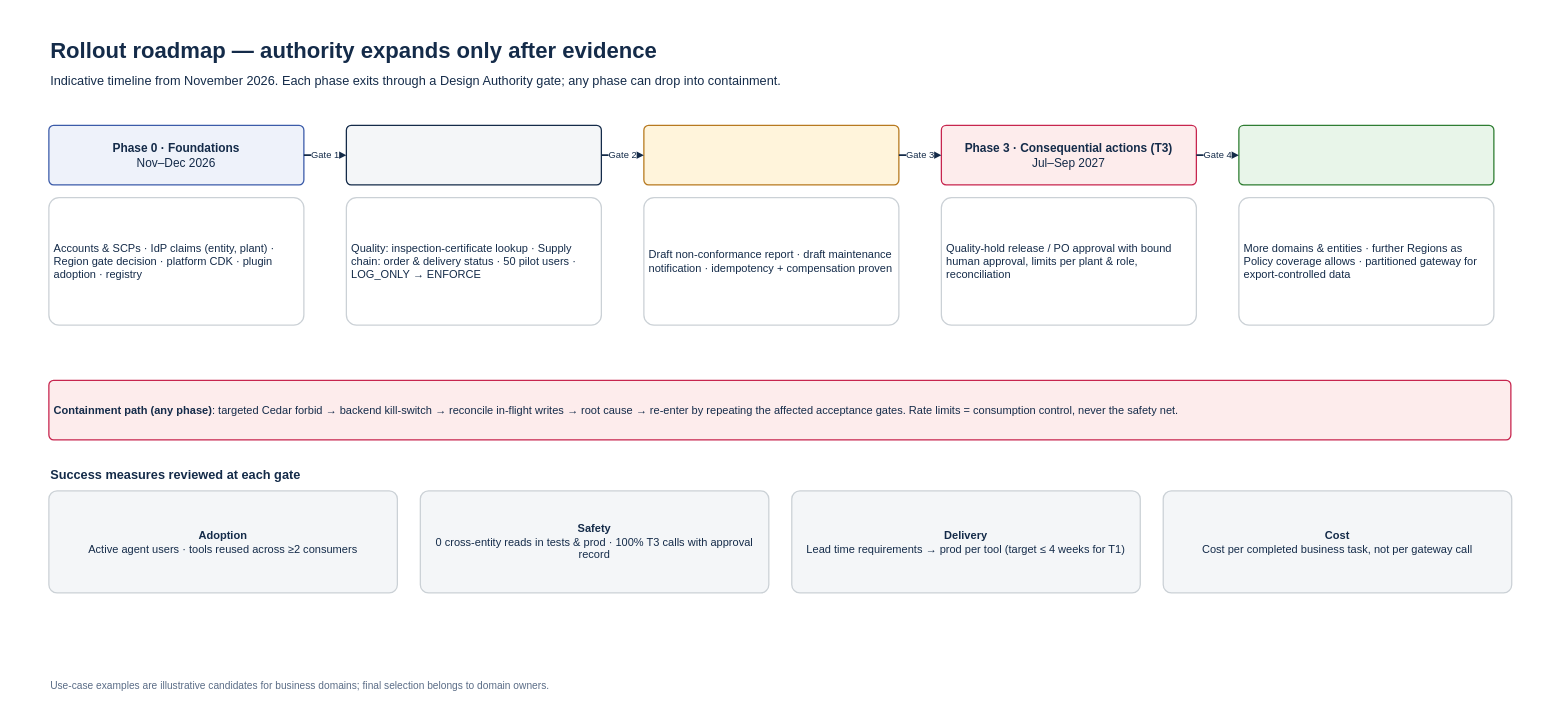
This 1559x726 diagram has some shape labels left out. The shapes that lost their labels are listed below. From the top down, each one's box as (x1, y1, x2, y2) in pixels, then its label:
(345, 124, 602, 185): Phase 1 · Read-only pilot (T0/T1) Jan–Mar 2027
(643, 124, 899, 185): Phase 2 · Reversible writes (T2) Apr–Jun 2027
(1238, 124, 1494, 185): Phase 4 · Scale Q4 2027 →
